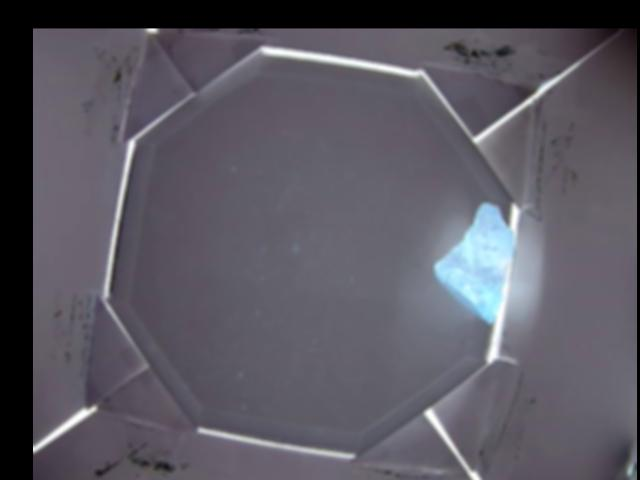Brisk: (436, 204, 517, 323)
